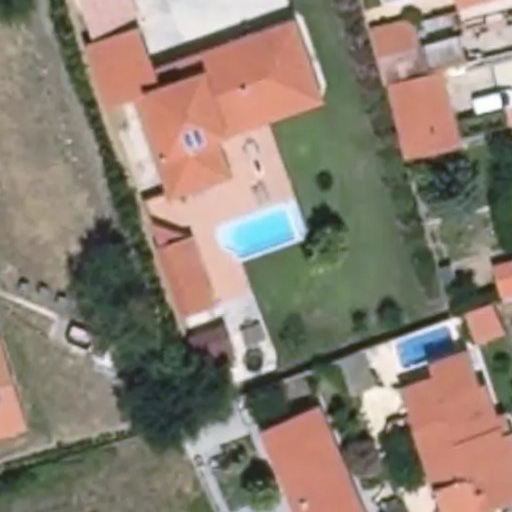pool: (212, 238, 299, 247)
